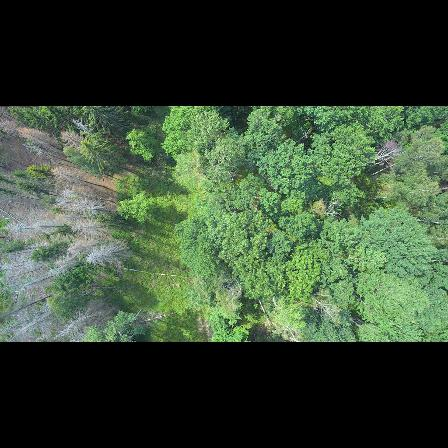Dead: (6, 308, 59, 342), (54, 304, 101, 342), (0, 294, 52, 321), (24, 144, 77, 166), (52, 168, 102, 188), (306, 291, 337, 323), (81, 197, 119, 221), (85, 242, 129, 262), (369, 140, 403, 164), (0, 259, 48, 276), (21, 271, 59, 292), (1, 117, 34, 139), (30, 218, 73, 233), (4, 244, 45, 259), (50, 251, 84, 269), (10, 222, 51, 236)
